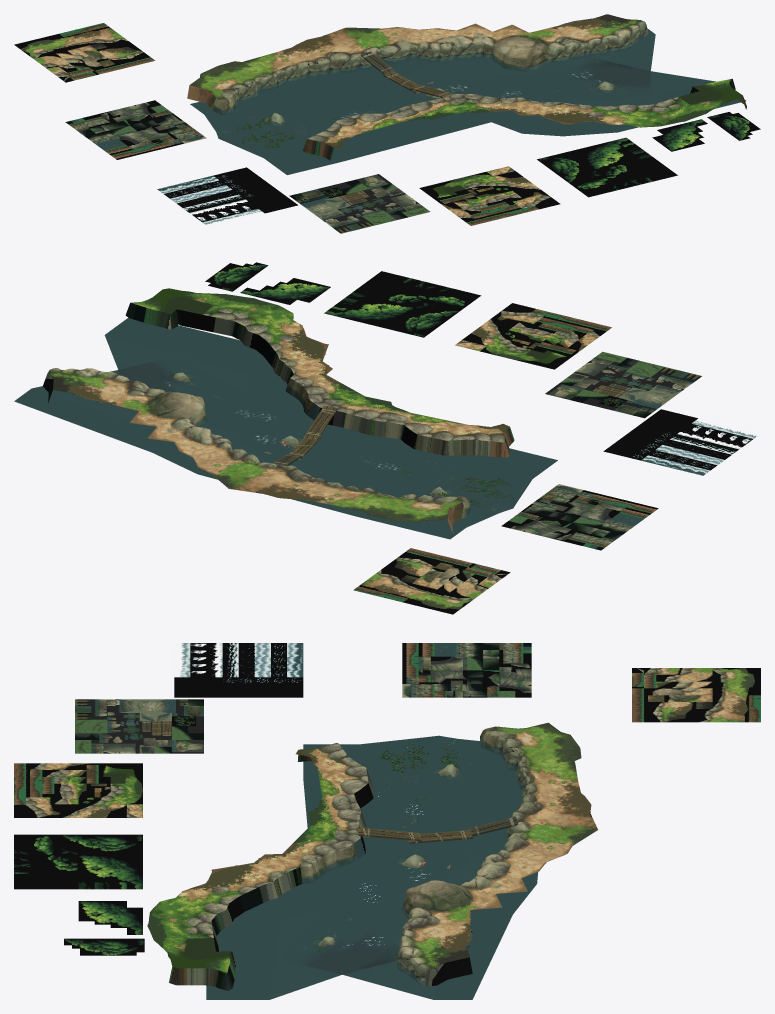
File: River_001.glb
The picture shows the model from 3 angles, top to bottom: view 1: azimuth 30°, elevation 25°; view 2: azimuth 150°, elevation 25°; view 3: azimuth 270°, elevation 25°; orthographic projection. The views are drawn at different scales.
Parts seen in each view (by area): view 1: Water, Land01, Land02, Plane, Plane.005, Plane.001, Plane.002, Plane.003, Plane.008, Plane.004, Bridge, Plane.006 (+1 smaller); view 2: Water, Land01, Land02, Border2, Plane.002, Plane.008, Plane, Plane.003, Plane.001, Plane.005, Plane.004, Bridge (+1 smaller); view 3: Water, Land01, Land02, Plane.008, Plane.002, Plane.003, Plane, Plane.001, Plane.005, Border2, Plane.004, Bridge (+1 smaller).
Part boxes in pixels (x1,y1,x2,y2): Water: (190,28,745,174); Land01: (187,14,648,115); Land02: (307,78,742,147); Plane: (419,166,560,225); Plane.005: (289,174,430,233); Plane.001: (14,23,155,82); Plane.002: (157,167,297,226); Plane.003: (65,100,206,159); Plane.008: (537,137,677,197); Plane.004: (652,119,707,151); Bridge: (360,51,452,98); Plane.006: (707,112,760,140); Water: (14,317,557,539); Land01: (43,368,470,532); Land02: (130,288,509,442); Border2: (125,303,514,457); Plane.002: (603,409,760,475); Plane.008: (324,271,481,337); Plane: (455,303,611,369); Plane.003: (501,484,658,550); Plane.001: (353,548,510,614); Plane.005: (545,351,701,418); Plane.004: (240,278,330,304); Bridge: (272,406,337,465); Water: (206,735,538,999); Land01: (397,722,597,986); Land02: (147,743,368,973); Plane.008: (14,834,142,889); Plane.002: (174,643,303,697); Plane.003: (402,643,531,697); Plane: (14,763,142,817); Plane.001: (632,668,760,722); Plane.005: (75,699,203,753); Border2: (169,754,373,990); Plane.004: (78,901,142,934); Bridge: (356,816,518,843).
Size of what is drawn, in the model's own units: 123 by 5.64 by 116.
Materials: 12 (12 with a texture image).
